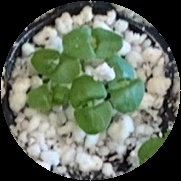Basil: (101, 58, 144, 111), (72, 77, 110, 133), (65, 28, 123, 59), (33, 49, 83, 80), (29, 82, 75, 108)
